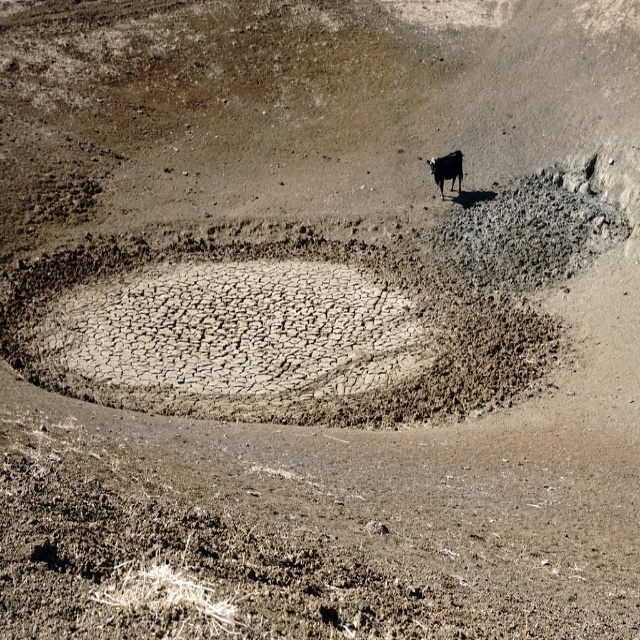Cattle: (428, 148, 462, 200)
